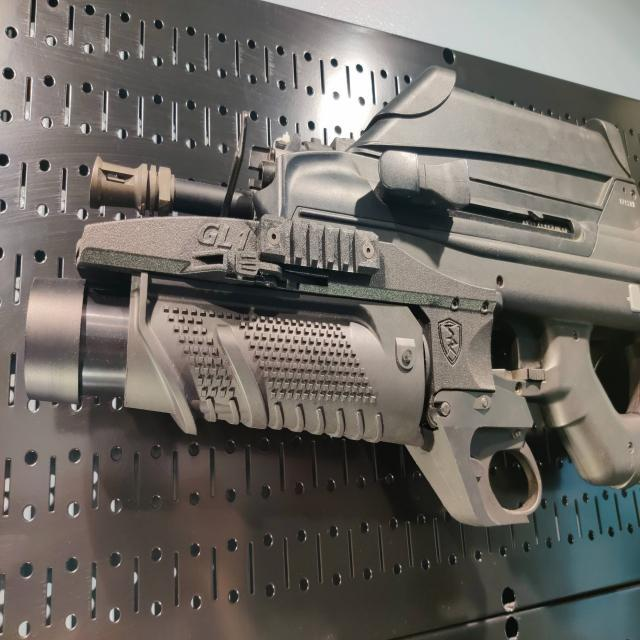rifle: (81, 64, 640, 506)
rocket launcher: (22, 262, 446, 507)
